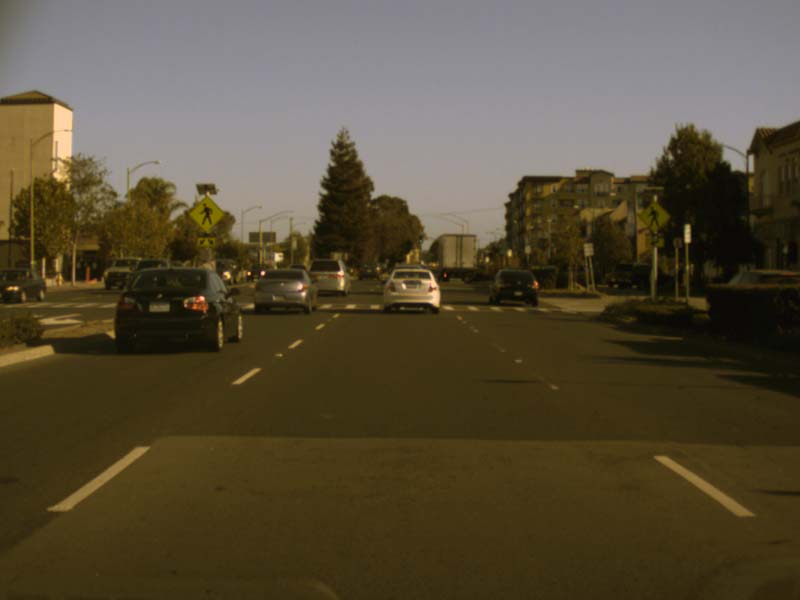Green: (418, 235, 422, 242)
